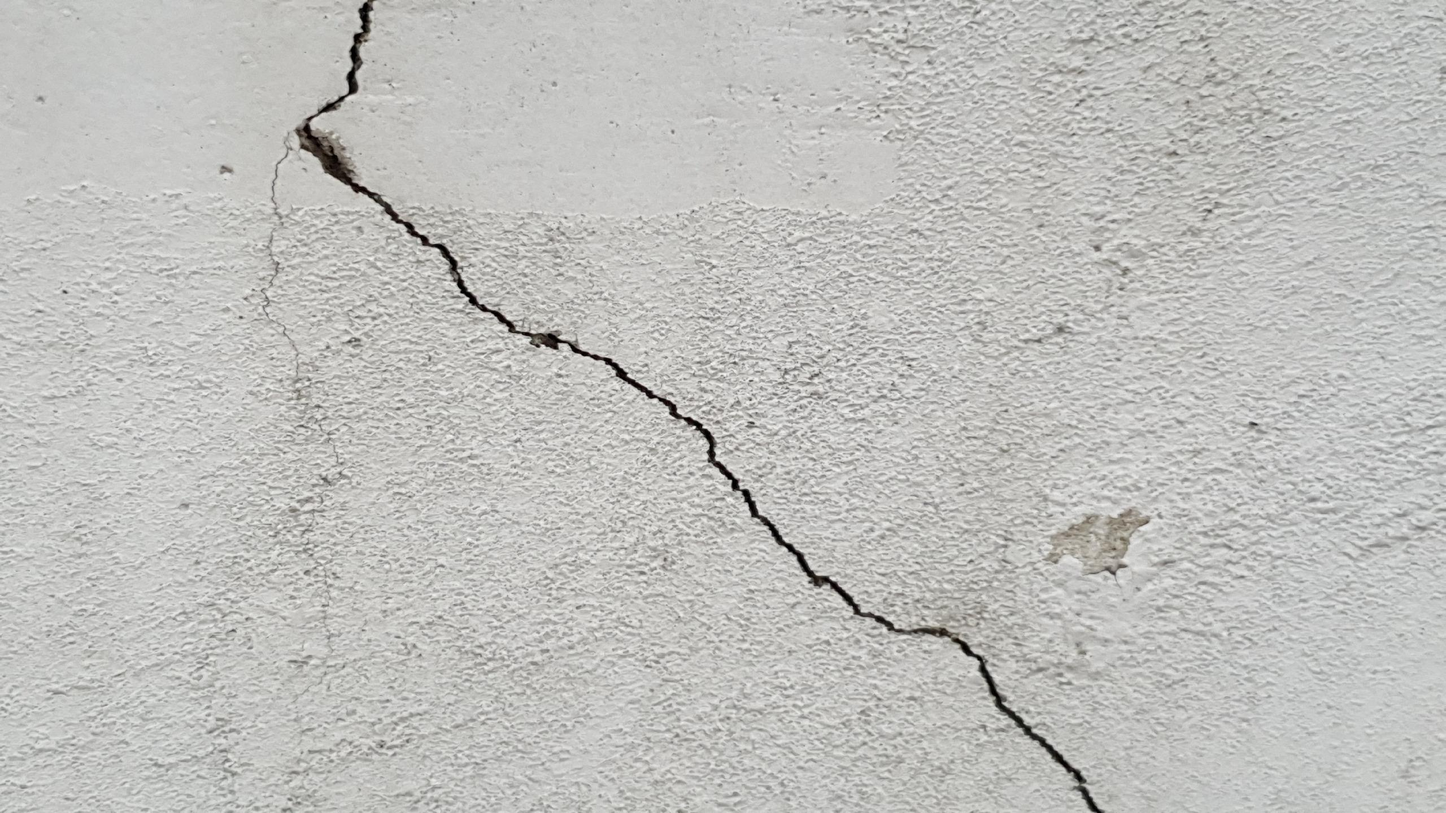crack: (291, 4, 1096, 812)
